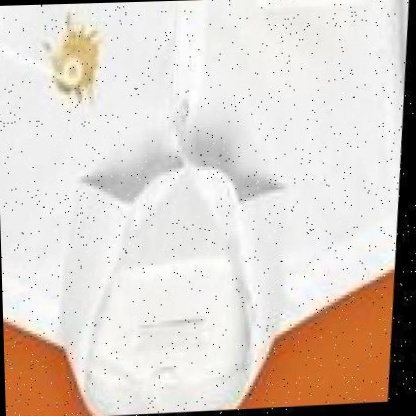coffee: (52, 32, 100, 94)
